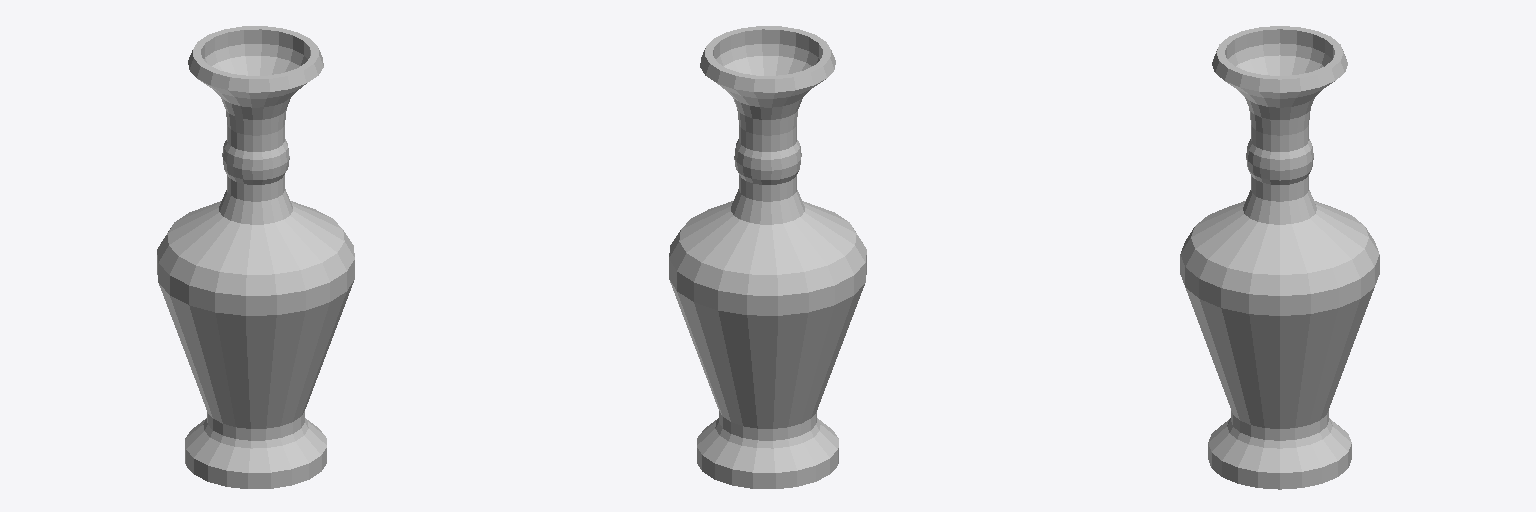
The model's file is Vaso LP.obj.
3 renders of one model, left to right at view 1: azimuth 30°, elevation 25°; view 2: azimuth 150°, elevation 25°; view 3: azimuth 270°, elevation 25°, orthographic.
Visible parts, largest first — view 1: Cylinder; view 2: Cylinder; view 3: Cylinder.
Boxes of the visible parts, <box> form: Cylinder: <box>157,26,354,488</box>; Cylinder: <box>669,26,866,488</box>; Cylinder: <box>1180,26,1379,489</box>.
Size of the model in its own units: 0.555 by 1.25 by 0.555.